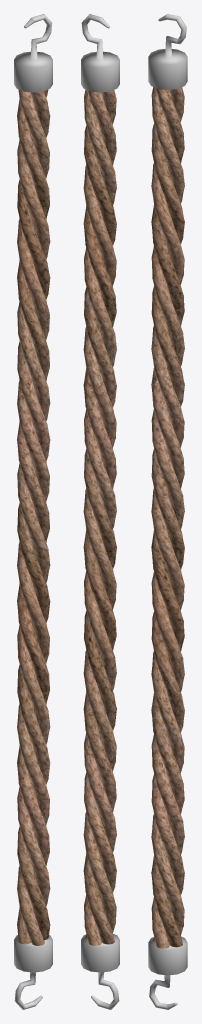
Rendered from rope with hook.fbx.
3 views of the same model, side by side, from view 1: azimuth 30°, elevation 25°; view 2: azimuth 150°, elevation 25°; view 3: azimuth 330°, elevation 25° (orthographic).
Visible parts, largest first — view 1: pCylinder8, pCylinder6, pCylinder7, pCylinder5, hook, hook1; view 2: pCylinder7, pCylinder5, pCylinder8, pCylinder6, hook, hook1; view 3: pCylinder6, pCylinder8, pCylinder5, pCylinder7, hook, hook1.
Part boxes in pixels (x1,y1,x2,y2): pCylinder8: [17, 89, 49, 945]; pCylinder6: [17, 91, 50, 940]; pCylinder7: [17, 99, 49, 944]; pCylinder5: [17, 89, 50, 911]; hook: [14, 14, 52, 92]; hook1: [14, 935, 52, 1009]; pCylinder7: [83, 90, 116, 944]; pCylinder5: [84, 89, 116, 945]; pCylinder8: [83, 90, 116, 932]; pCylinder6: [84, 125, 116, 939]; hook: [81, 14, 119, 92]; hook1: [81, 934, 119, 1009]; pCylinder6: [151, 88, 184, 947]; pCylinder8: [151, 87, 184, 948]; pCylinder5: [151, 87, 184, 935]; pCylinder7: [151, 123, 184, 941]; hook: [148, 14, 187, 89]; hook1: [148, 936, 187, 1009].
Bounding box in the file's own units: 0.3068 × 7.98 × 0.2841.
